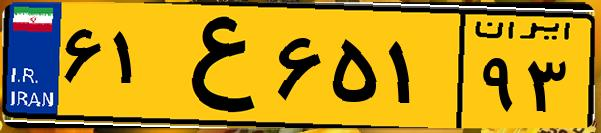1: (385, 28, 445, 110), (110, 28, 158, 98)
3: (525, 38, 570, 115)
5: (330, 28, 385, 110)
6: (270, 28, 330, 110), (57, 26, 110, 100)
9: (475, 38, 525, 113)
ع: (158, 12, 270, 120)
